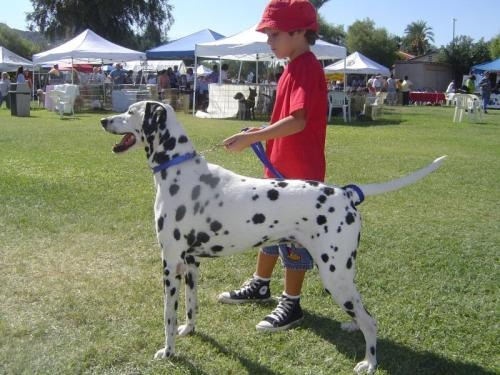dog: (100, 102, 444, 369)
